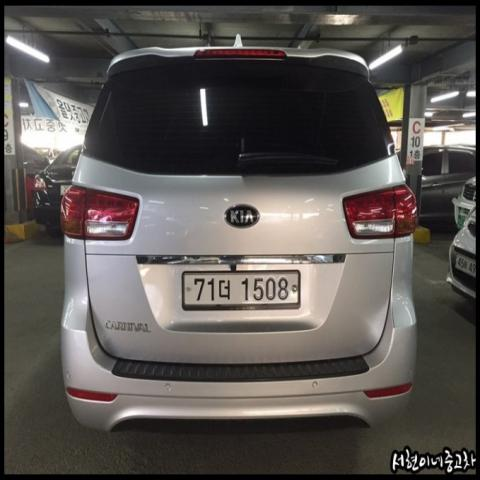LP: (177, 259, 305, 320)
